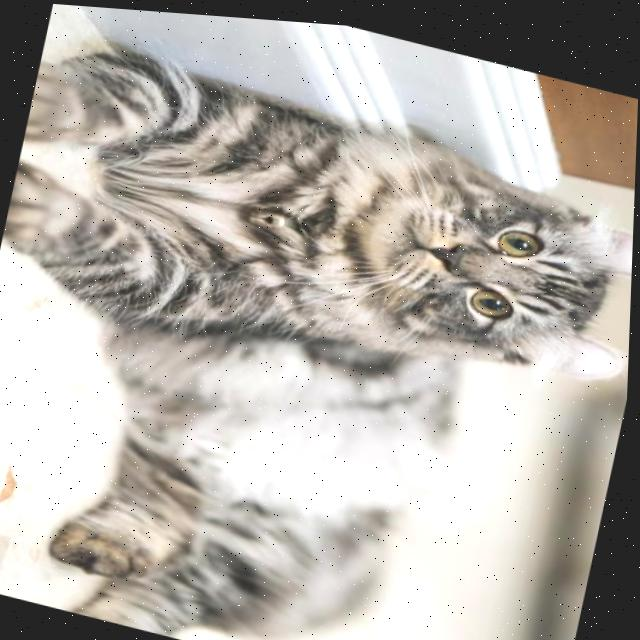American Curl: (0, 27, 639, 640)
